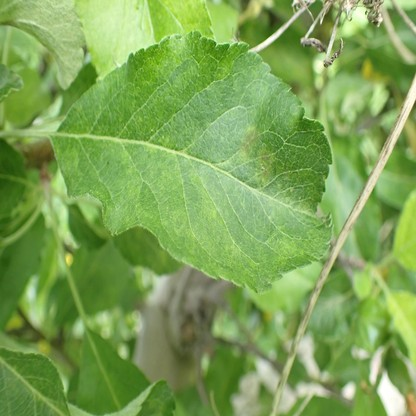scab: (235, 129, 258, 159), (260, 150, 272, 184)
